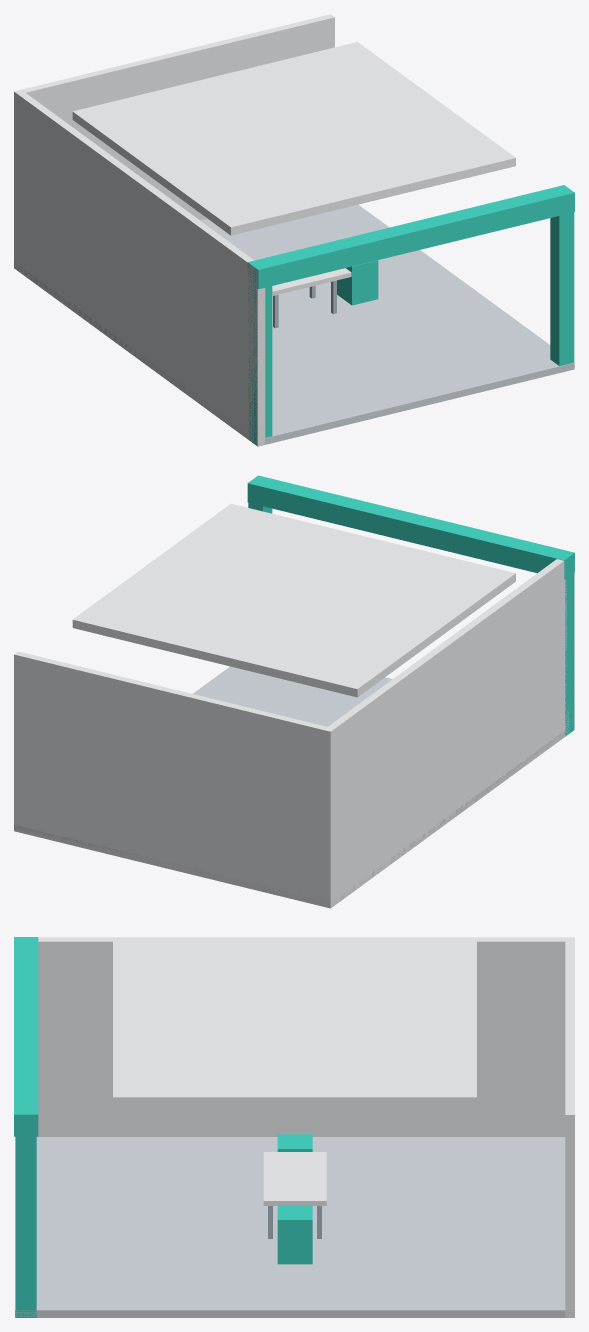
3 views of the same model, one above another, from view 1: azimuth 30°, elevation 25°; view 2: azimuth 150°, elevation 25°; view 3: azimuth 270°, elevation 25° (orthographic). The views are drawn at different scales.
Parts seen in each view (by area): view 1: Exhibition Booth Concept; view 2: Exhibition Booth Concept; view 3: Exhibition Booth Concept.
Boxes of the visible parts, <box> form: Exhibition Booth Concept: <box>14,14,574,446</box>; Exhibition Booth Concept: <box>14,475,574,908</box>; Exhibition Booth Concept: <box>14,937,574,1317</box>.
Size of the model in its own units: 6 by 3.34 by 8.01.
